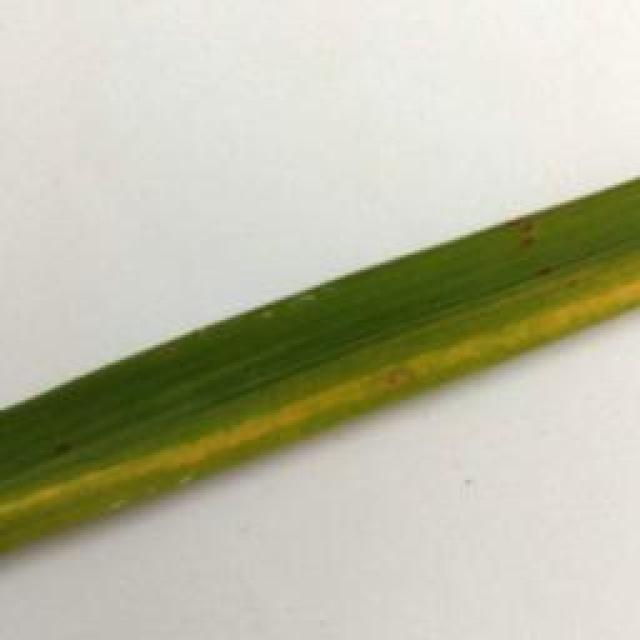Bacterial_Blight: (0, 262, 640, 524)
Brown_Spot: (496, 211, 550, 264), (50, 436, 82, 467), (536, 262, 559, 285)
